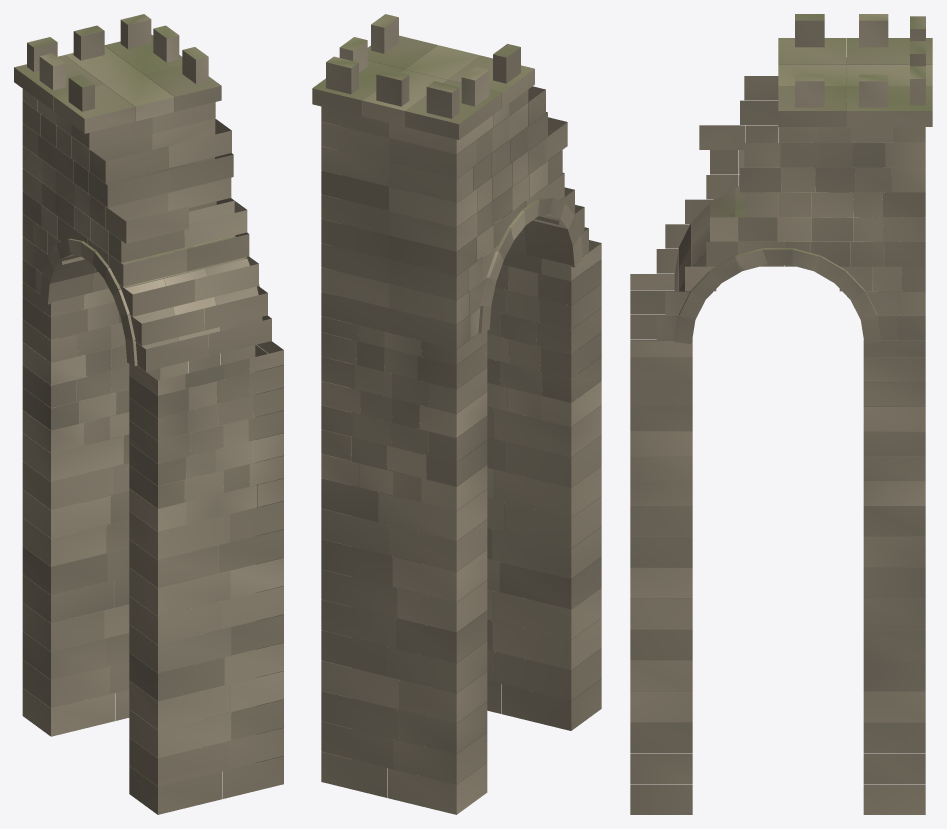
Rendered from bridge_tower_broken_mid.glb.
3 renders of one model, left to right at view 1: azimuth 30°, elevation 25°; view 2: azimuth 150°, elevation 25°; view 3: azimuth 270°, elevation 25°, orthographic. The views are drawn at different scales.
Parts seen in each view (by area): view 1: bridge_tower_broken_mid; view 2: bridge_tower_broken_mid; view 3: bridge_tower_broken_mid.
Boxes of the visible parts, left/top/right/bottom form: bridge_tower_broken_mid: left=14, top=14, right=283, bottom=814; bridge_tower_broken_mid: left=312, top=14, right=601, bottom=814; bridge_tower_broken_mid: left=630, top=14, right=932, bottom=814.
Bounding box in the file's own units: 15.17 × 71.17 × 26.57.
